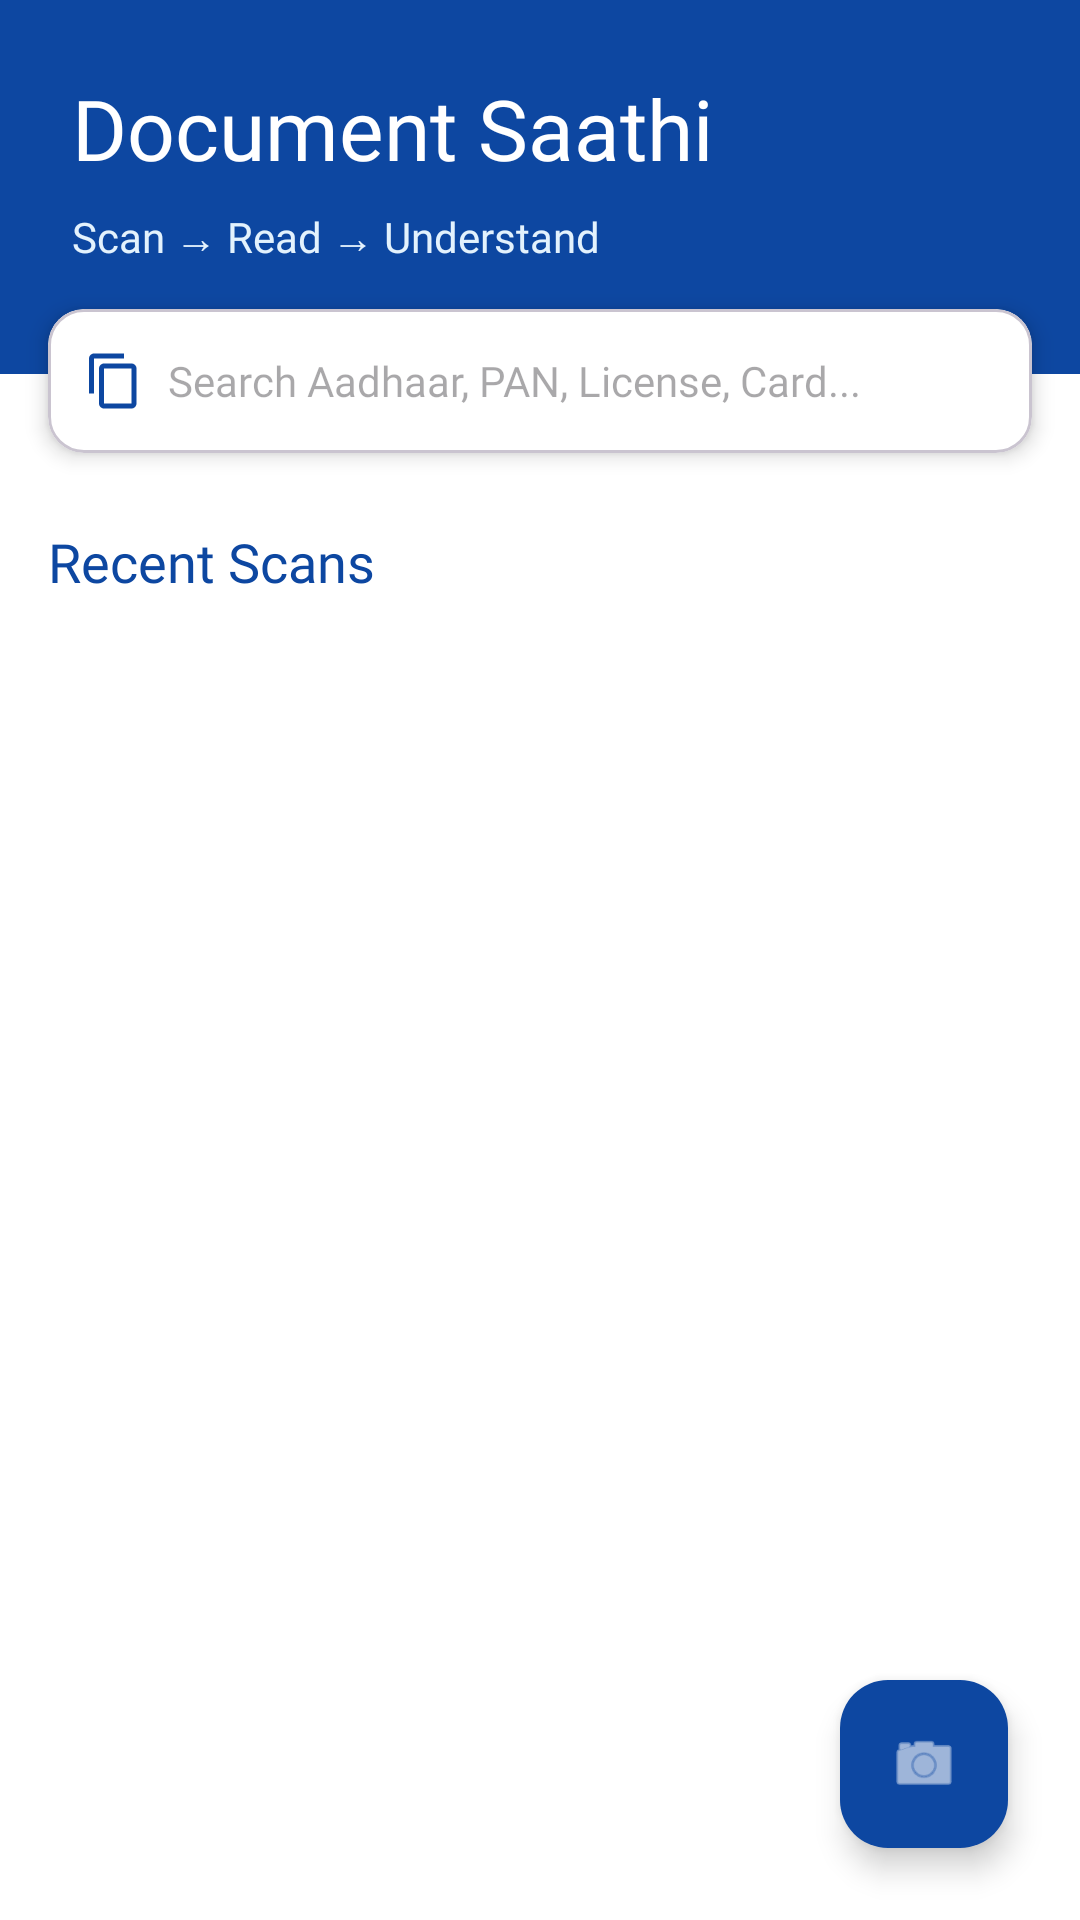

Icons on this 1080px x 1920px Android screen, each with its box as (x1, y1, x2, y2):
Scan Document: (840, 1680, 1008, 1848)
